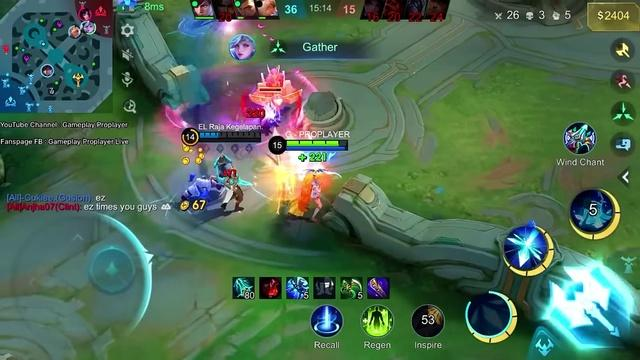Adc_Aliado: (85, 21, 98, 34)
Esbirro_Enemigo: (248, 70, 301, 126)
Exp_Aliado: (66, 25, 81, 40)
Freddrin: (214, 155, 250, 210)
HP_Aliado: (202, 130, 259, 139)
HP_Heroe_Principal: (285, 141, 347, 146)
Jungla_Aliado: (80, 21, 88, 32)
Lord_Mejorado_Mapa: (70, 70, 88, 89)
Mana: (285, 147, 345, 151)
Mid_Aliado: (40, 63, 54, 77)
Mid_Enemigo: (79, 6, 94, 20)
Minimapa: (0, 0, 115, 114)
Miya: (290, 170, 333, 221)
Skill2: (500, 226, 555, 273)
